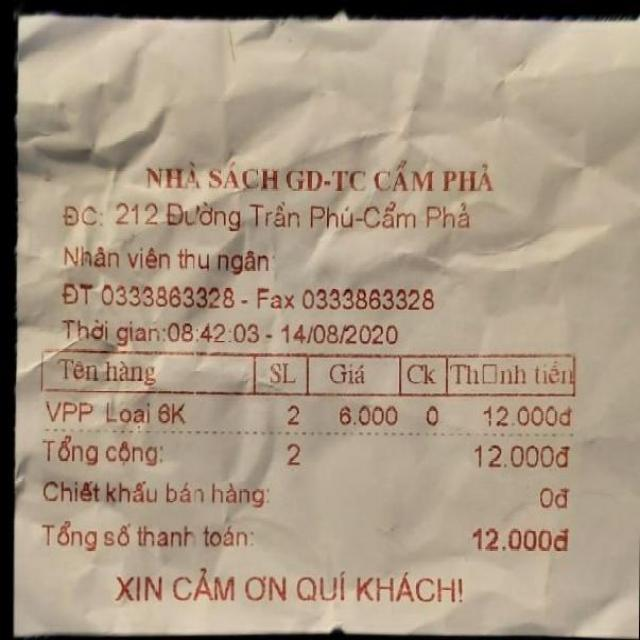Date: (280, 321, 405, 348)
Store_Name: (141, 160, 503, 198)
amount_number: (473, 441, 555, 472)
label_total: (40, 433, 162, 468)
